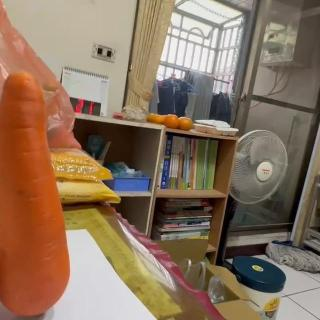carrot: (0, 69, 71, 318)
